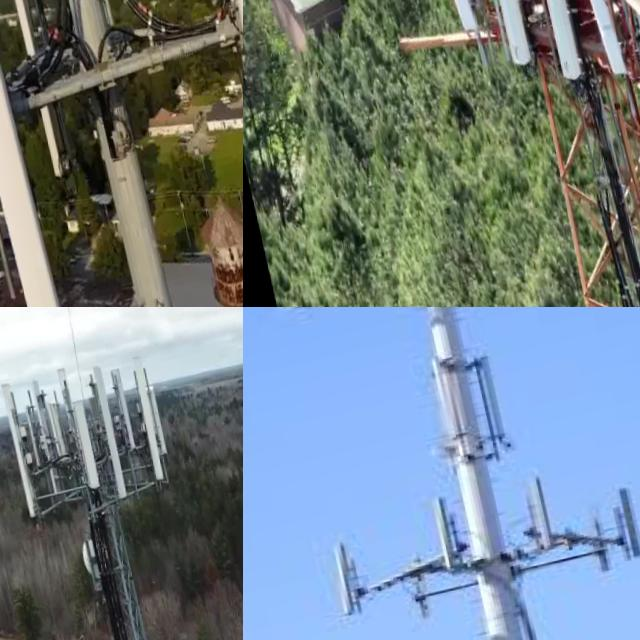GSM Antenna: (0, 0, 64, 307), (178, 0, 243, 200), (0, 0, 67, 181), (516, 0, 580, 104), (0, 380, 40, 530), (86, 368, 126, 504), (23, 378, 66, 503), (123, 359, 162, 495), (468, 0, 533, 79), (569, 0, 623, 83), (511, 477, 556, 565), (421, 501, 460, 595), (313, 542, 357, 624), (65, 404, 100, 505), (425, 0, 479, 57), (604, 490, 640, 575), (107, 366, 134, 464), (49, 372, 74, 435)
Microwave Antenna: (70, 532, 99, 596)
